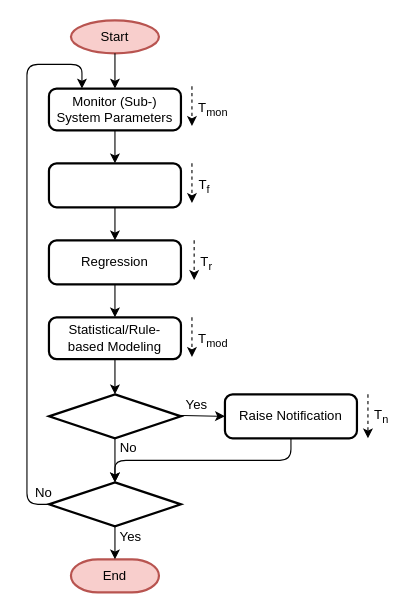
Some shapes in this 417 by 612 pixel diagram are drawn without their labels. The shapes that lost their labels are listed below. From the top down, each one's centre as x and y in pixels, then its label:
pixel 114 185: Filtering
pixel 114 416: Fault Condition?
pixel 114 504: Finished?
